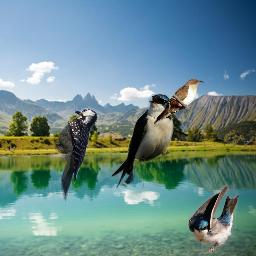Cuckoo: (154, 78, 204, 127)
Swallow: (111, 94, 174, 189), (188, 185, 239, 254)
Woodpecker: (53, 104, 98, 202)
